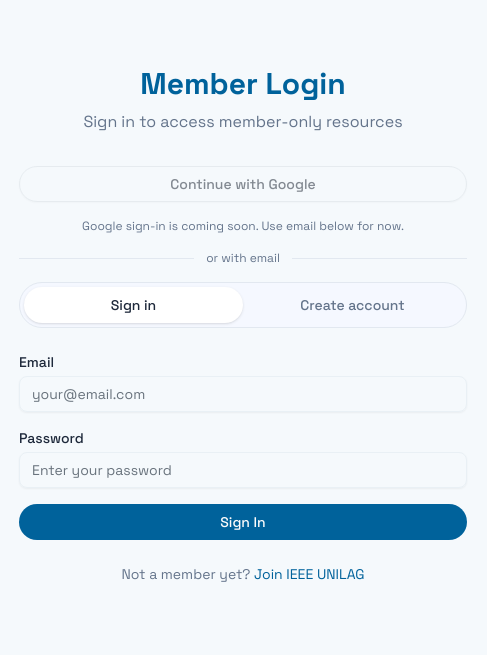
login page › shows the account-exists message and stays put on signup conflict
Click the button "Create account" at (352, 305), box [243,287,462,323]
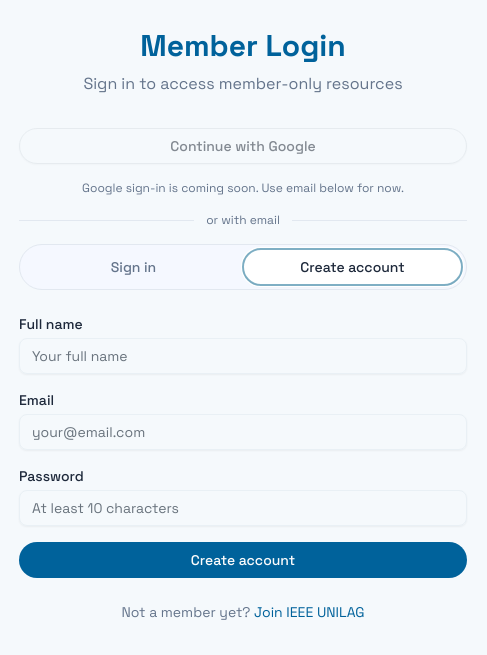
Type "Ada Lovelace" into the field labelled "Full name" at (243, 356), box [19,338,467,374]
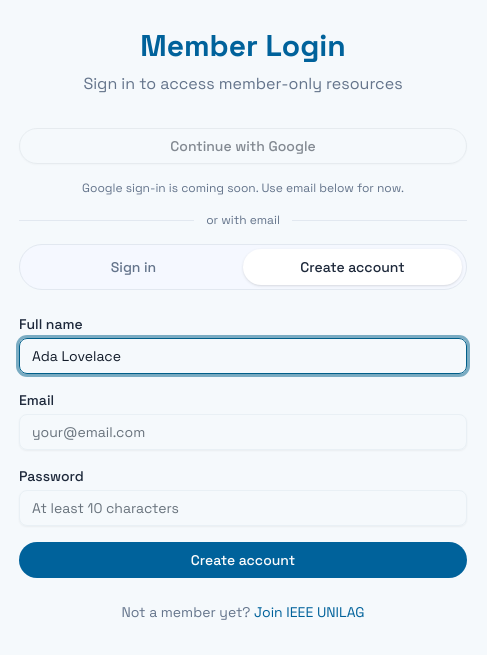
Type "ada@example.com" into the field labelled "Email" at (243, 432), box [19,414,467,450]
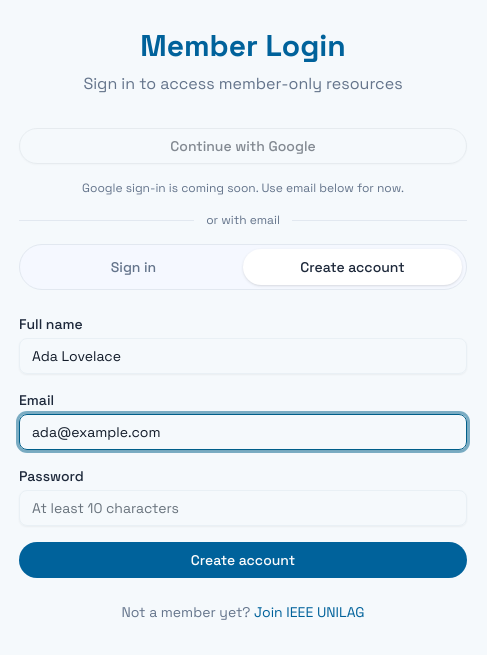
Type "CorrectHorse123!" into the password field labelled "Password" at (243, 508), box [19,490,467,526]
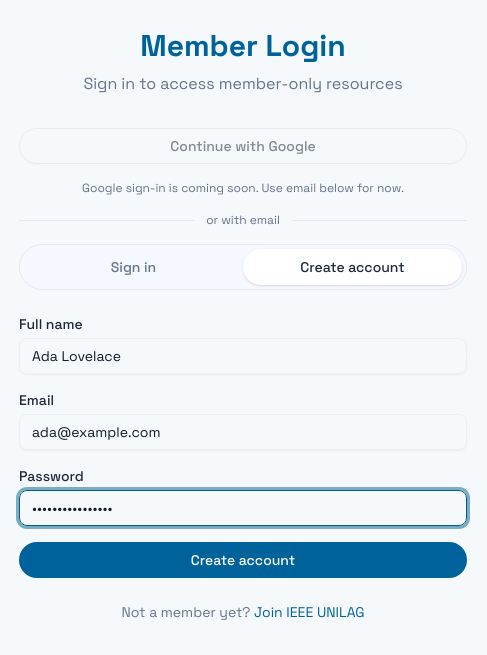
expect the button "Create account" below "Password" is shown: met
Click the button "Create account" below "Password" at (243, 560), box [19,542,467,578]
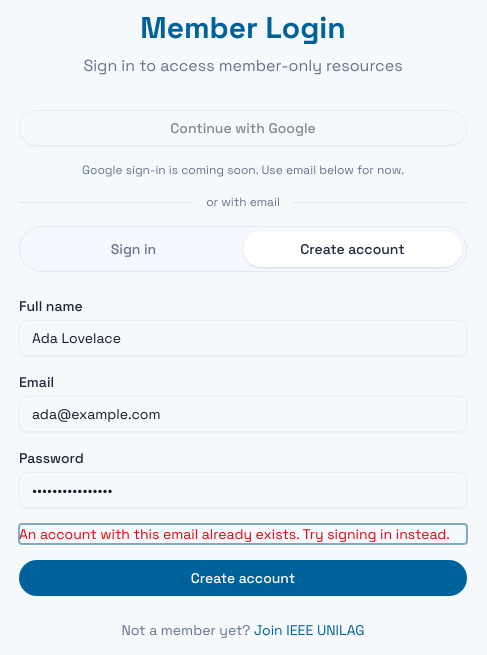
expect the text "An account with this email already exists. Try signing in instead." is shown: met, box [19,524,467,544]
